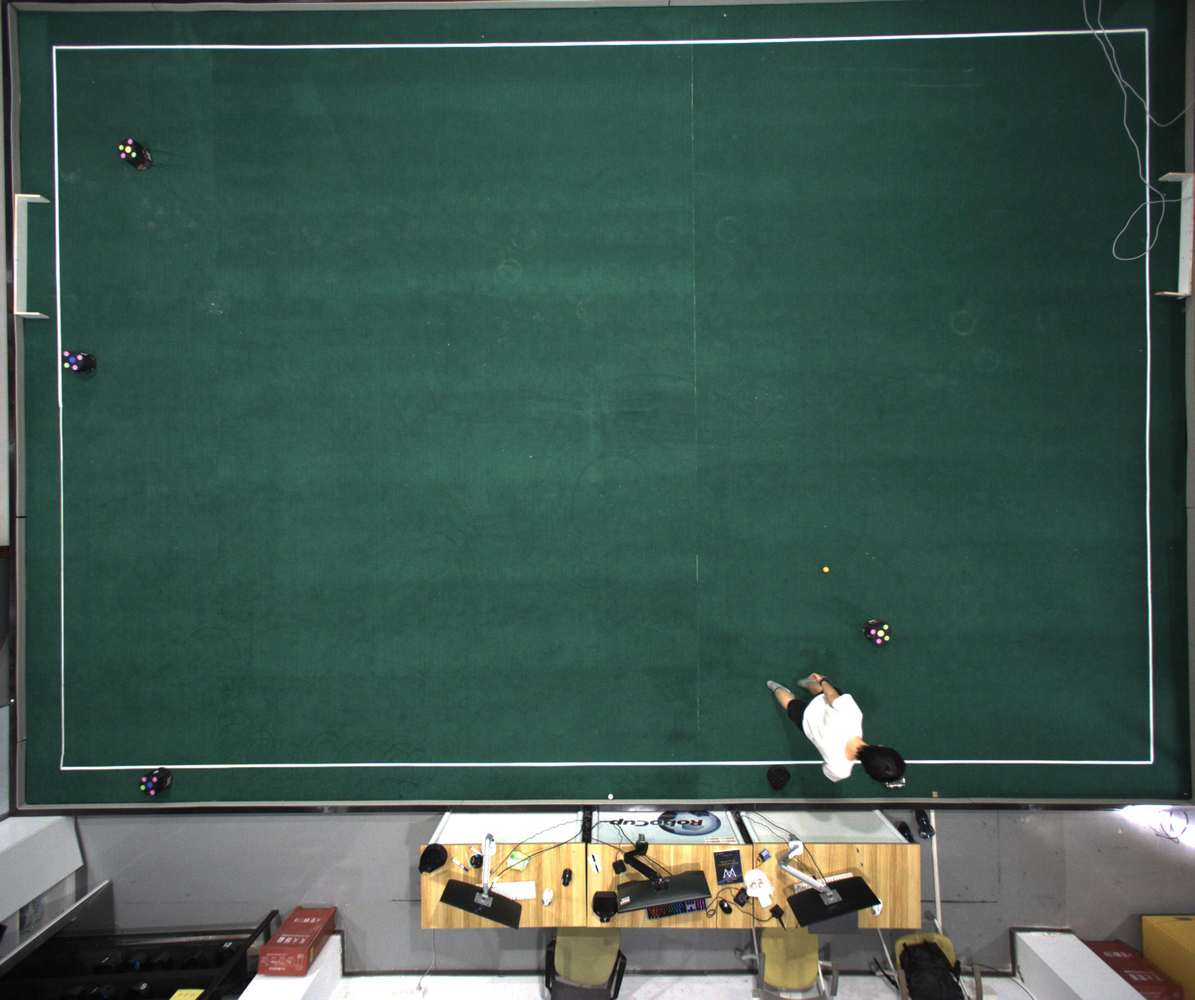ball: (823, 566, 829, 573)
blue_bot: (139, 775, 160, 796), (62, 350, 83, 371)
yellow_bot: (118, 138, 138, 161), (869, 624, 891, 644)
